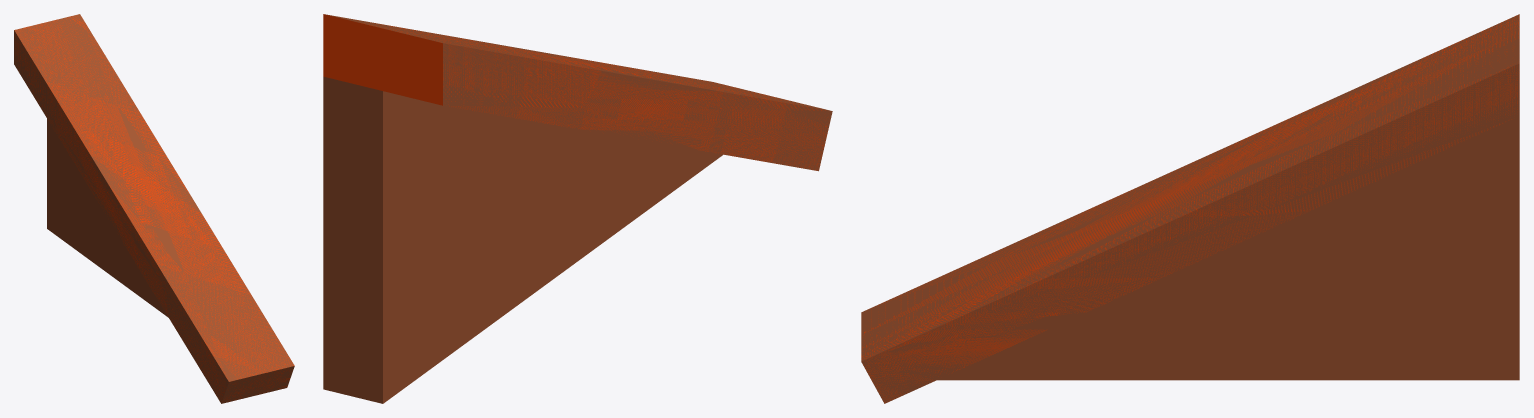
Rendered from roof_small_gable_roof.fbx.
The picture shows the model from 3 angles, left to right: view 1: azimuth 30°, elevation 25°; view 2: azimuth 150°, elevation 25°; view 3: azimuth 270°, elevation 25°; orthographic projection. The views are drawn at different scales.
Visible parts, largest first — view 1: Mesh1_roof_small_gable1 Model; view 2: Mesh1_roof_small_gable1 Model; view 3: Mesh1_roof_small_gable1 Model.
Boxes of the visible parts, bbox=[...] form: Mesh1_roof_small_gable1 Model: bbox=[14, 14, 294, 403]; Mesh1_roof_small_gable1 Model: bbox=[323, 14, 832, 403]; Mesh1_roof_small_gable1 Model: bbox=[861, 14, 1519, 403].
Size of the model in its own units: 0.2 by 0.6447 by 1.13.
